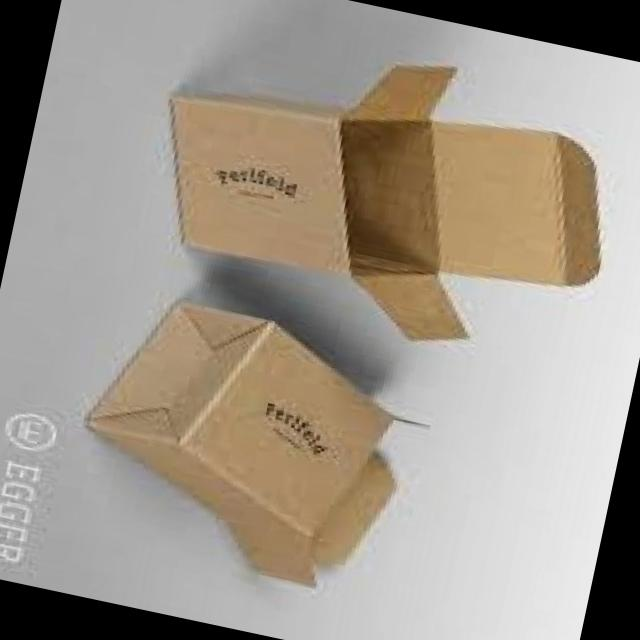cardboard paper: (174, 64, 602, 338), (91, 300, 397, 582)
